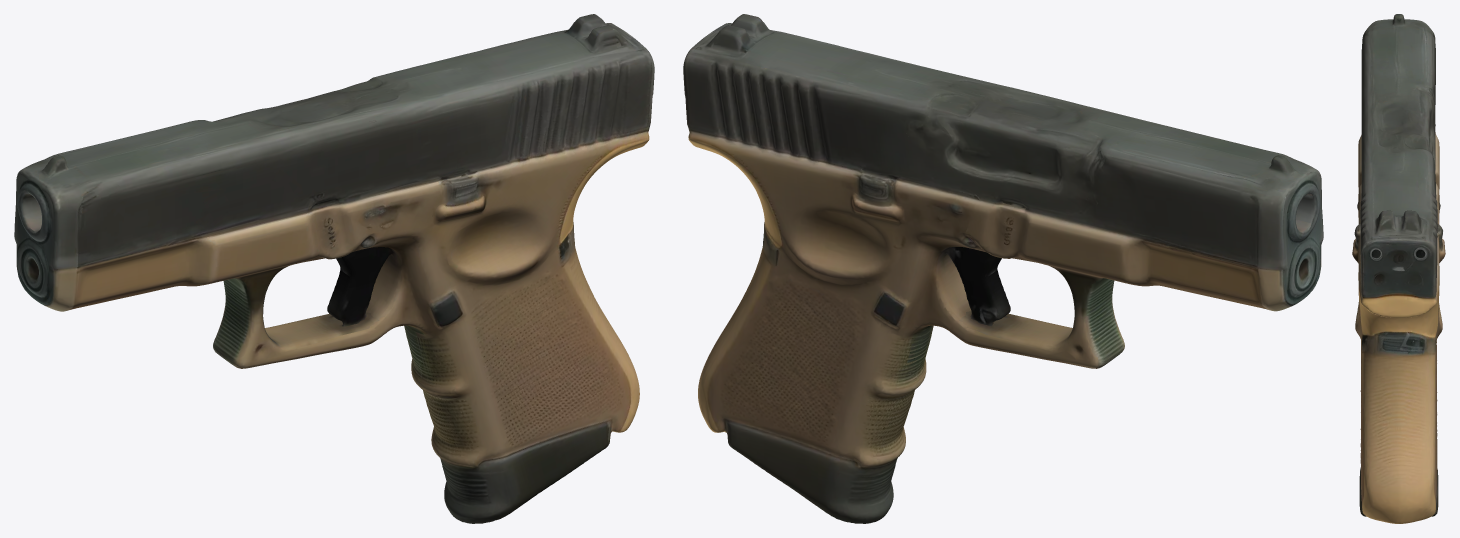
Rendered from glock.glb.
3 views of the same model, side by side, from view 1: azimuth 30°, elevation 25°; view 2: azimuth 150°, elevation 25°; view 3: azimuth 270°, elevation 25° (orthographic). The views are drawn at different scales.
Parts seen in each view (by area): view 1: Object_2; view 2: Object_2; view 3: Object_2.
Boxes of the visible parts, bbox=[...] form: Object_2: bbox=[14, 14, 654, 523]; Object_2: bbox=[683, 14, 1323, 523]; Object_2: bbox=[1352, 14, 1445, 523].
Size of the model in its own units: 1 by 0.7355 by 0.1765.
1 material, 1 textured.
